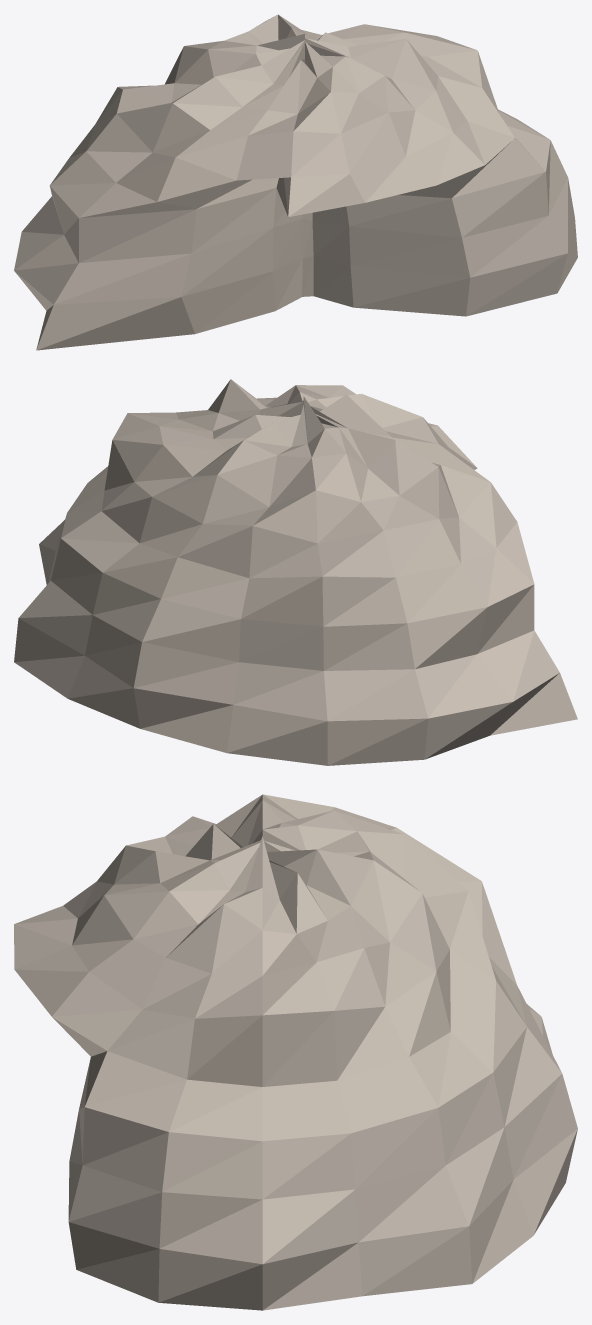
The model's file is cueva_rocosa_gruta.glb.
3 renders of one model, top to bottom at view 1: azimuth 30°, elevation 25°; view 2: azimuth 150°, elevation 25°; view 3: azimuth 270°, elevation 25°, orthographic. The views are drawn at different scales.
Parts seen in each view (by area): view 1: Cave_Grotto; view 2: Cave_Grotto; view 3: Cave_Grotto.
Part boxes in pixels (x1,y1,x2,y2): Cave_Grotto: (14,14,577,350); Cave_Grotto: (14,379,577,765); Cave_Grotto: (14,794,577,1310).
Bounding box in the file's own units: 6.5 × 2.95 × 4.63.
